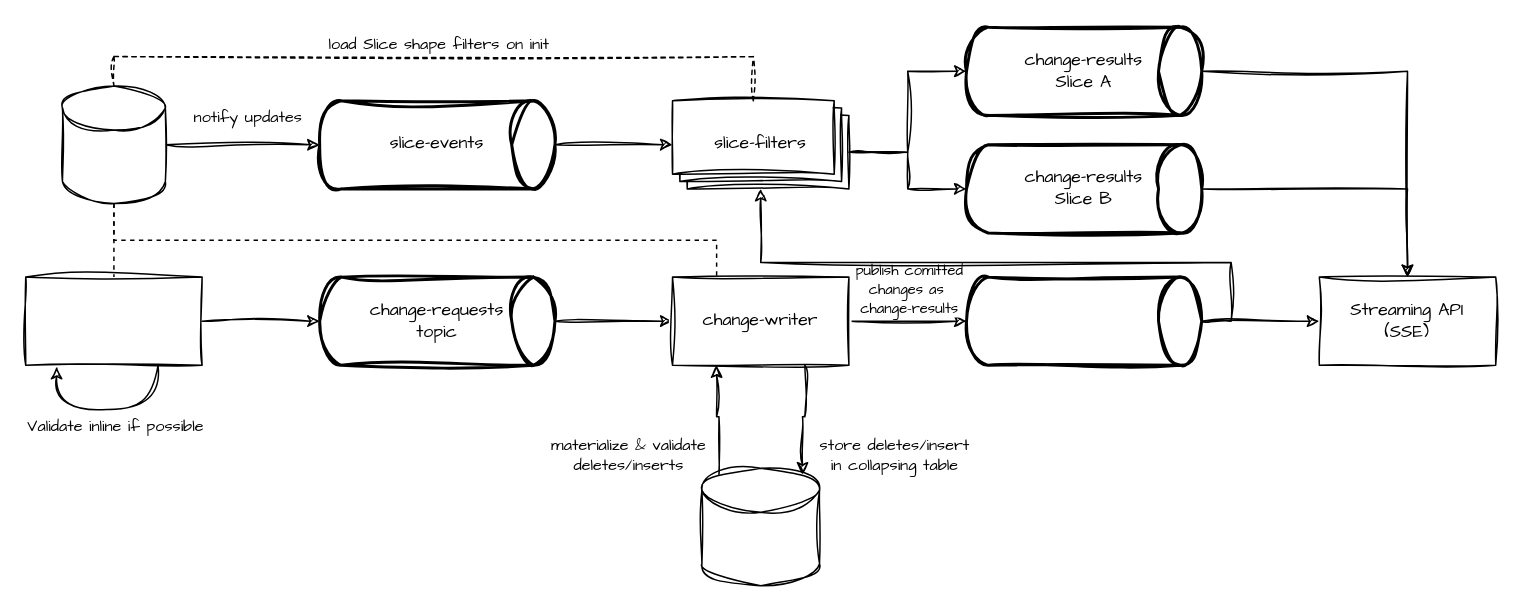
Some shapes in this 1521 by 612 pixel diagram are drawn without their labels. Each missing label, with the centre of its shape:
"CH" goes at point (760, 526).
"change-results topic" goes at point (1083, 320).
"Inbox API" goes at point (113, 320).
"Slice SHACL shape repo" goes at point (113, 144).
